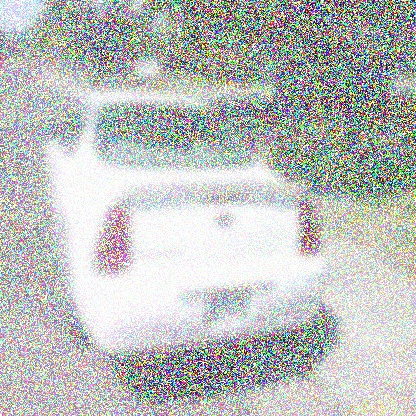Vehicle: (38, 86, 328, 364)
